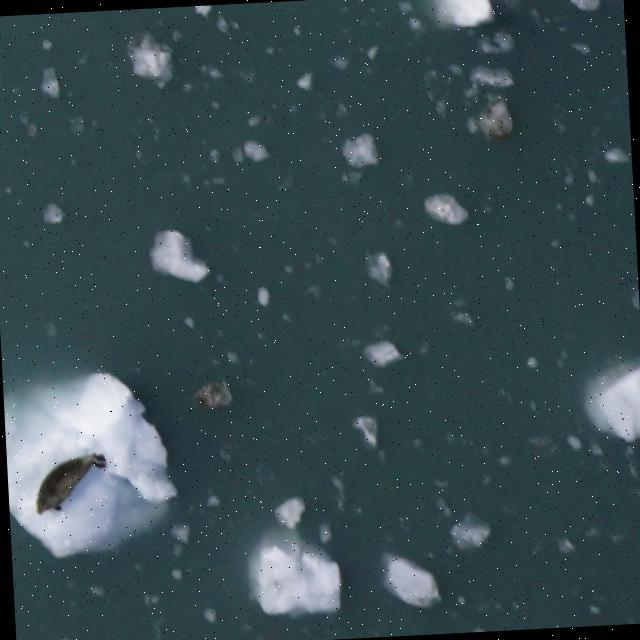seal: (28, 448, 116, 519)
